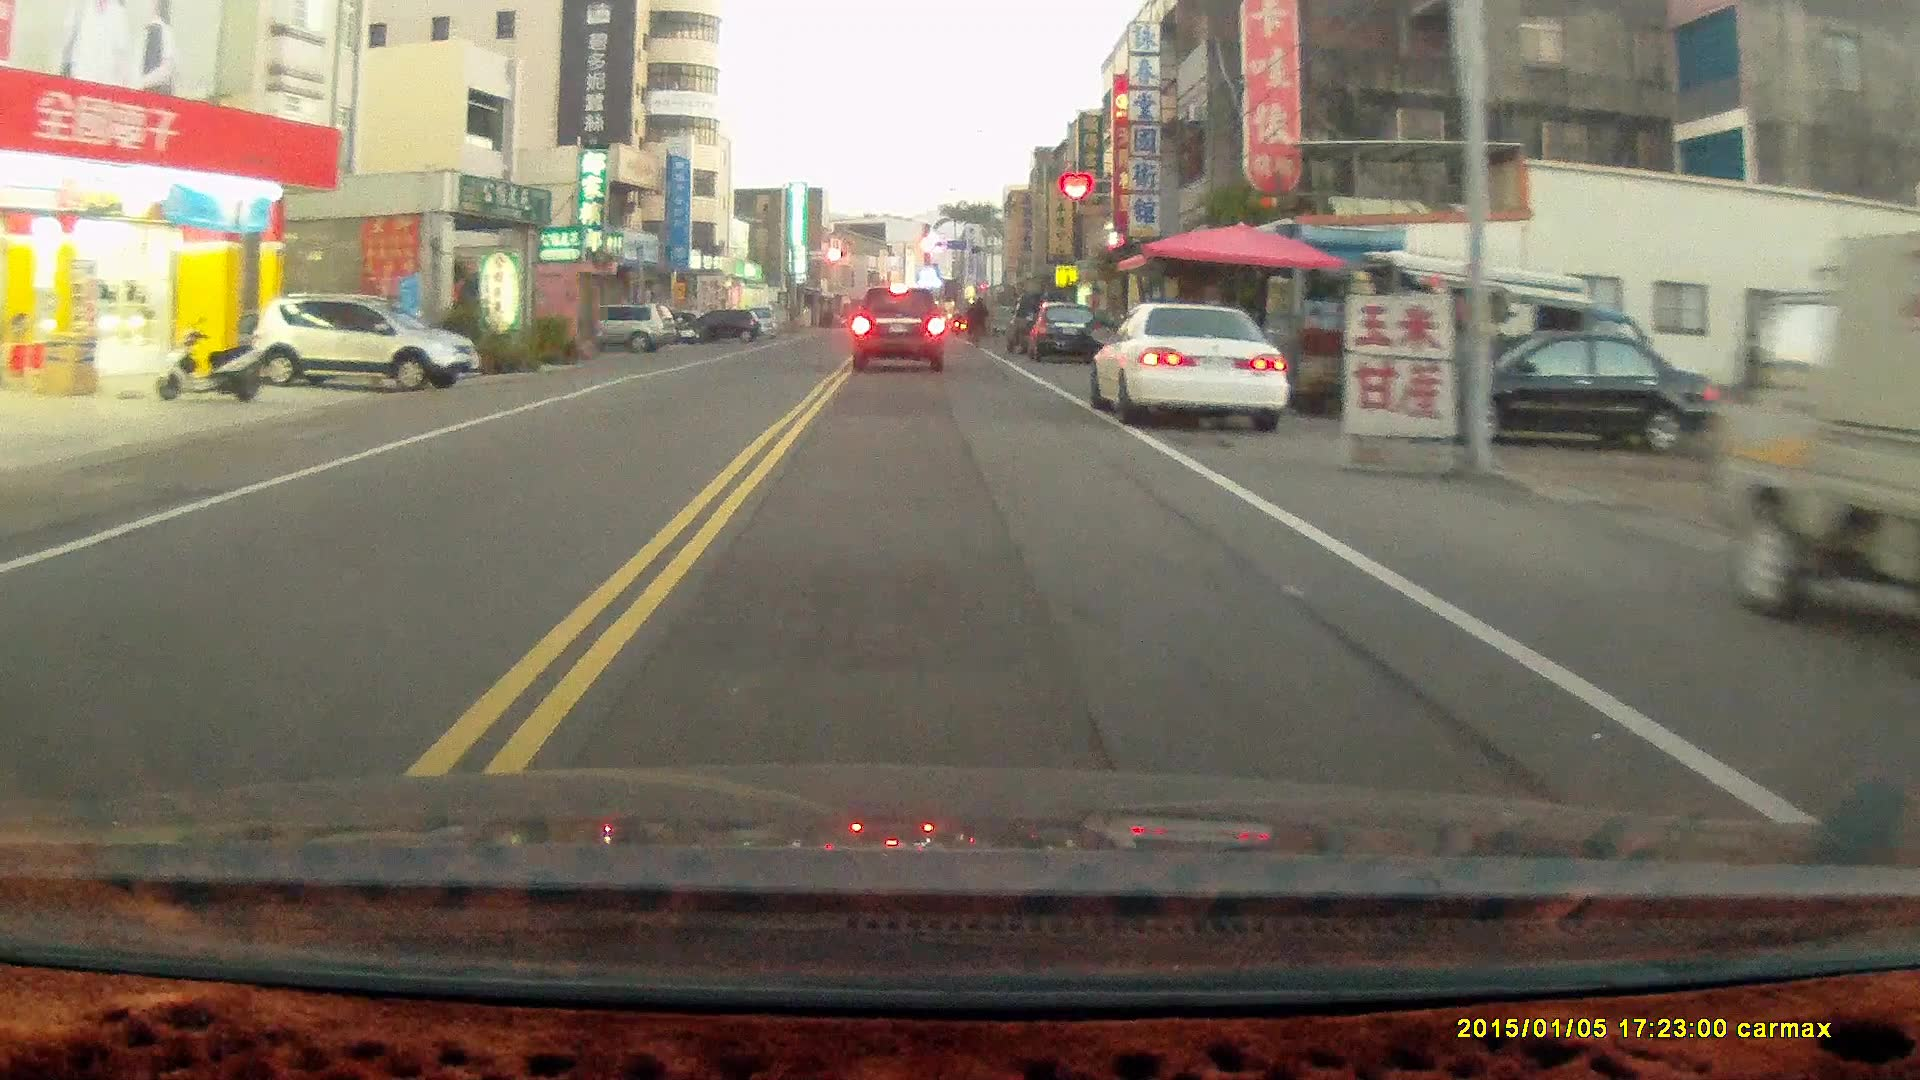rider: (967, 292, 989, 345)
vehicle: (1715, 223, 1920, 668), (1381, 329, 1717, 457), (1097, 303, 1292, 434), (246, 290, 478, 391), (850, 287, 950, 376), (582, 303, 680, 353), (1031, 302, 1105, 364)
